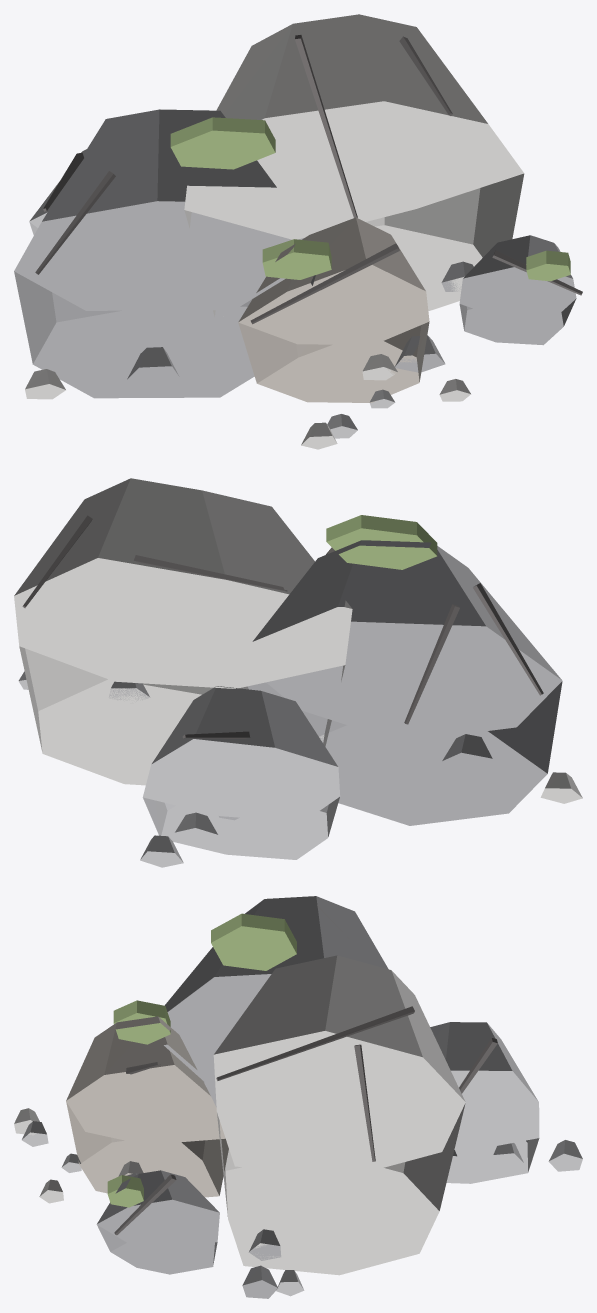
File: stone_2.glb
3 views of the same model, one above another, from view 1: azimuth 30°, elevation 25°; view 2: azimuth 150°, elevation 25°; view 3: azimuth 270°, elevation 25° (orthographic). The views are drawn at different scales.
Visible parts, largest first — view 1: Boulder#4, Boulder#2, Boulder, Boulder#6, Boulder#3, Boulder#5, Boulder#10, Moss, Boulder#9, Moss#2, Crack#3, Moss#3 (+9 smaller); view 2: Boulder#4, Boulder#2, Boulder#8, Boulder, Boulder#3, Boulder#7, Moss, Pebble#7, Crack, Crack#3, Crack#2, Pebble#9 (+4 smaller); view 3: Boulder#4, Boulder#3, Boulder#6, Boulder#2, Boulder#8, Boulder#5, Boulder#10, Moss, Boulder#9, Boulder#7, Moss#2, Crack#3 (+6 smaller).
Boxes of the visible parts, bbox=[...] form: Boulder#4: bbox=[184, 14, 524, 239]; Boulder#2: bbox=[14, 109, 304, 310]; Boulder: bbox=[14, 271, 315, 398]; Boulder#6: bbox=[238, 217, 429, 345]; Boulder#3: bbox=[184, 173, 524, 316]; Boulder#5: bbox=[238, 321, 429, 402]; Boulder#10: bbox=[459, 235, 576, 319]; Moss: bbox=[170, 117, 275, 169]; Boulder#9: bbox=[459, 298, 576, 345]; Moss#2: bbox=[262, 239, 331, 279]; Crack#3: bbox=[295, 35, 357, 217]; Moss#3: bbox=[526, 250, 570, 281]; Boulder#4: bbox=[14, 478, 352, 688]; Boulder#2: bbox=[252, 540, 562, 741]; Boulder#8: bbox=[143, 686, 340, 822]; Boulder: bbox=[247, 681, 562, 825]; Boulder#3: bbox=[19, 646, 345, 785]; Boulder#7: bbox=[143, 797, 339, 859]; Moss: bbox=[326, 515, 437, 569]; Pebble#7: bbox=[140, 835, 183, 867]; Crack: bbox=[473, 583, 543, 695]; Crack#3: bbox=[134, 555, 287, 591]; Crack#2: bbox=[404, 604, 459, 724]; Pebble#9: bbox=[540, 772, 582, 803]; Boulder#4: bbox=[213, 955, 465, 1177]; Boulder#3: bbox=[217, 1103, 465, 1275]; Boulder#6: bbox=[66, 1016, 225, 1144]; Boulder#2: bbox=[164, 896, 388, 1085]; Boulder#8: bbox=[430, 1022, 539, 1150]; Boulder#5: bbox=[66, 1101, 228, 1197]; Boulder#10: bbox=[96, 1170, 219, 1250]; Moss: bbox=[211, 913, 296, 970]; Boulder#9: bbox=[97, 1225, 217, 1274]; Boulder#7: bbox=[446, 1138, 539, 1183]; Moss#2: bbox=[113, 1000, 170, 1044]; Crack#3: bbox=[216, 1006, 414, 1080].
Bounding box in the file's own units: 3.02 × 1.2 × 2.88.
